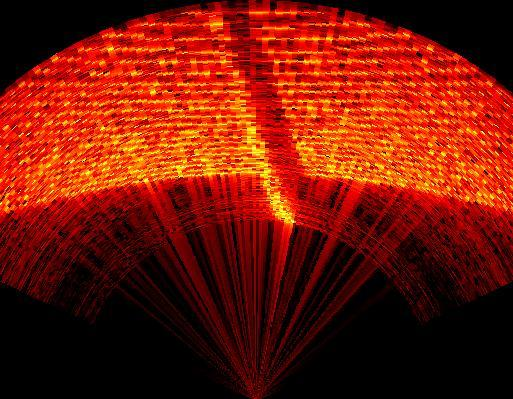pipe: (198, 8, 308, 226)
